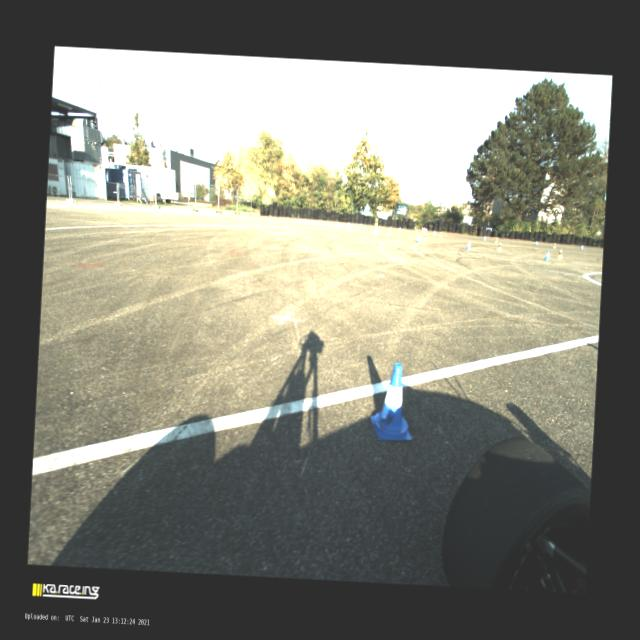blue_cone: (370, 362, 416, 442), (544, 250, 550, 260), (416, 234, 422, 243), (466, 240, 471, 250), (373, 228, 378, 236), (336, 222, 340, 228), (348, 224, 351, 232), (398, 226, 402, 232), (580, 244, 584, 250), (433, 230, 436, 236), (376, 224, 378, 230), (483, 236, 486, 240), (347, 222, 349, 227), (360, 223, 362, 228), (536, 240, 538, 245)
yellow_cone: (497, 242, 502, 252), (558, 250, 563, 258), (422, 233, 427, 241), (386, 228, 391, 236), (378, 226, 381, 233), (553, 242, 556, 248), (415, 230, 418, 236), (439, 232, 442, 237), (495, 238, 498, 243), (390, 226, 392, 232)
